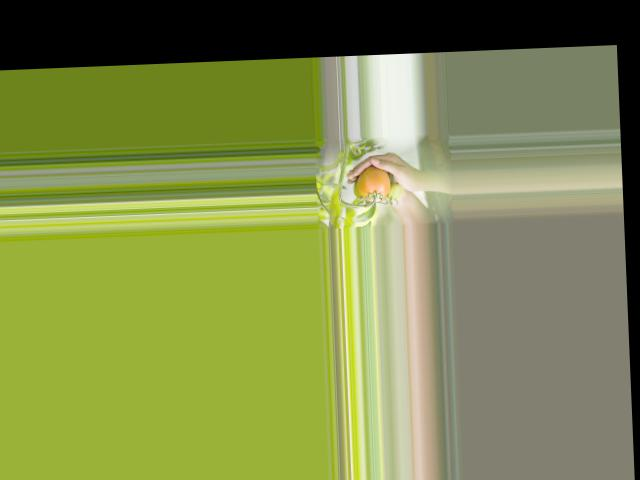tomato: (357, 166, 391, 201)
